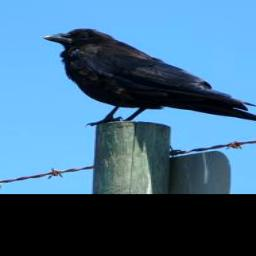Crow: (39, 26, 256, 127)
